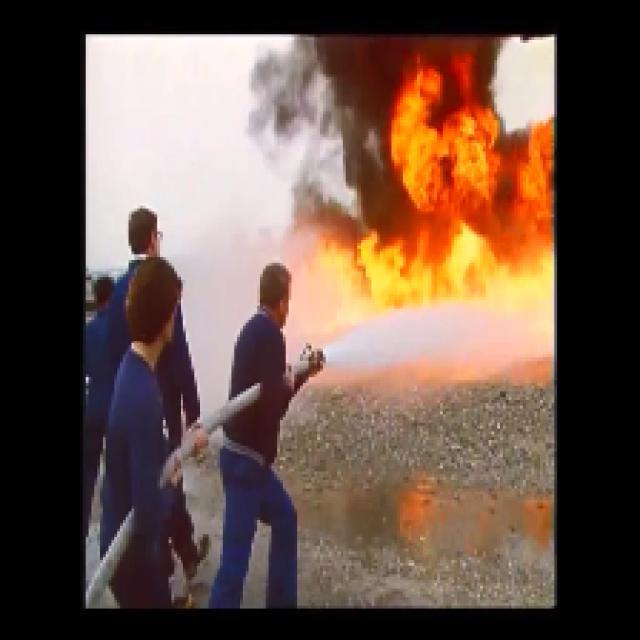Fire: (399, 114, 552, 276)
Smoke: (343, 32, 393, 125)
